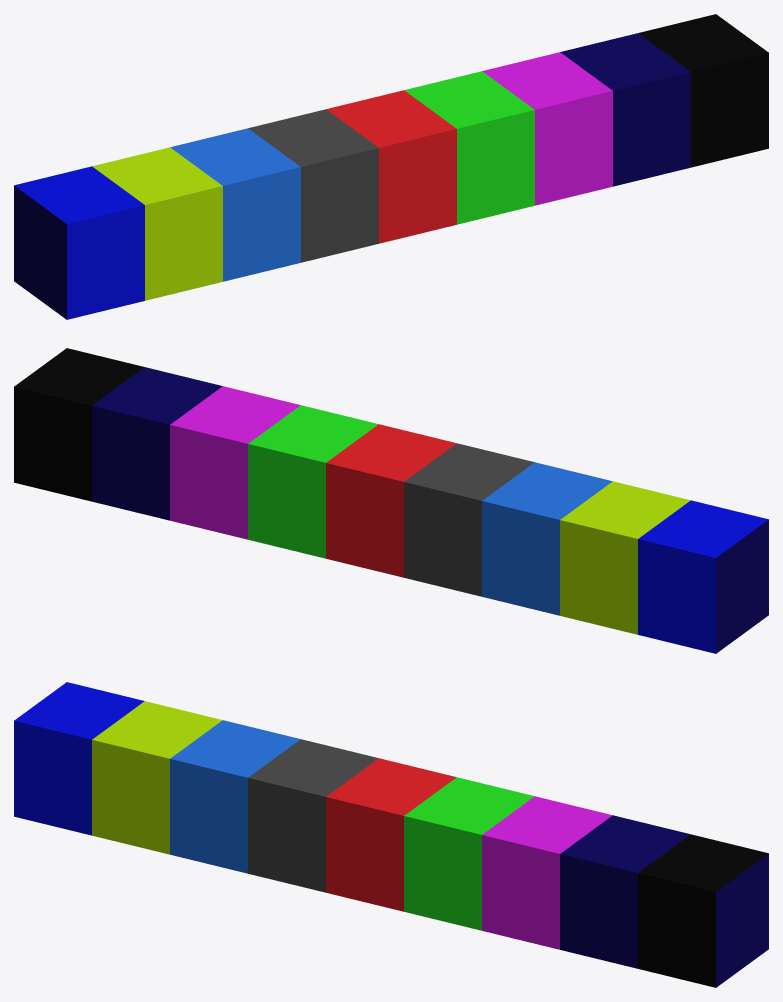
The picture shows the model from 3 angles, top to bottom: view 1: azimuth 30°, elevation 25°; view 2: azimuth 150°, elevation 25°; view 3: azimuth 330°, elevation 25°; orthographic projection.
Parts seen in each view (by area): view 1: Cube; view 2: Cube; view 3: Cube.
Part boxes in pixels (<box>): Cube: <box>14,14,768,319</box>; Cube: <box>14,348,768,653</box>; Cube: <box>14,682,768,987</box>.
Bounding box in the file's own units: 1533 × 200 × 200.
